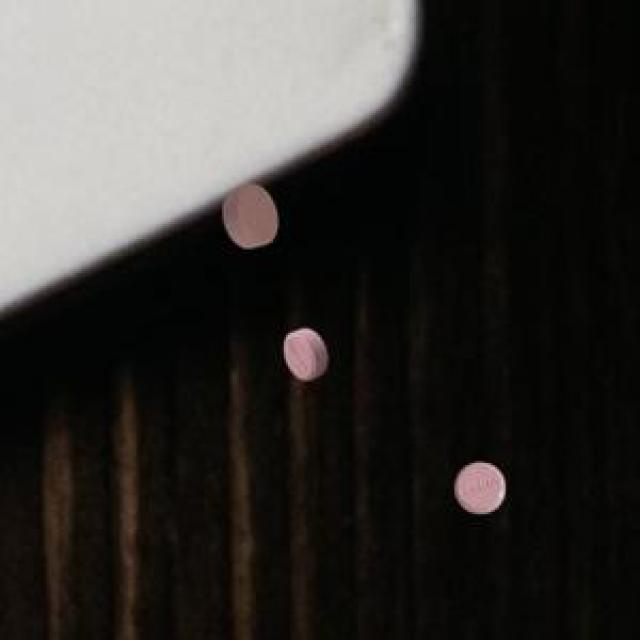Kremil_S: (217, 176, 284, 258), (446, 456, 518, 526), (274, 311, 332, 392)
